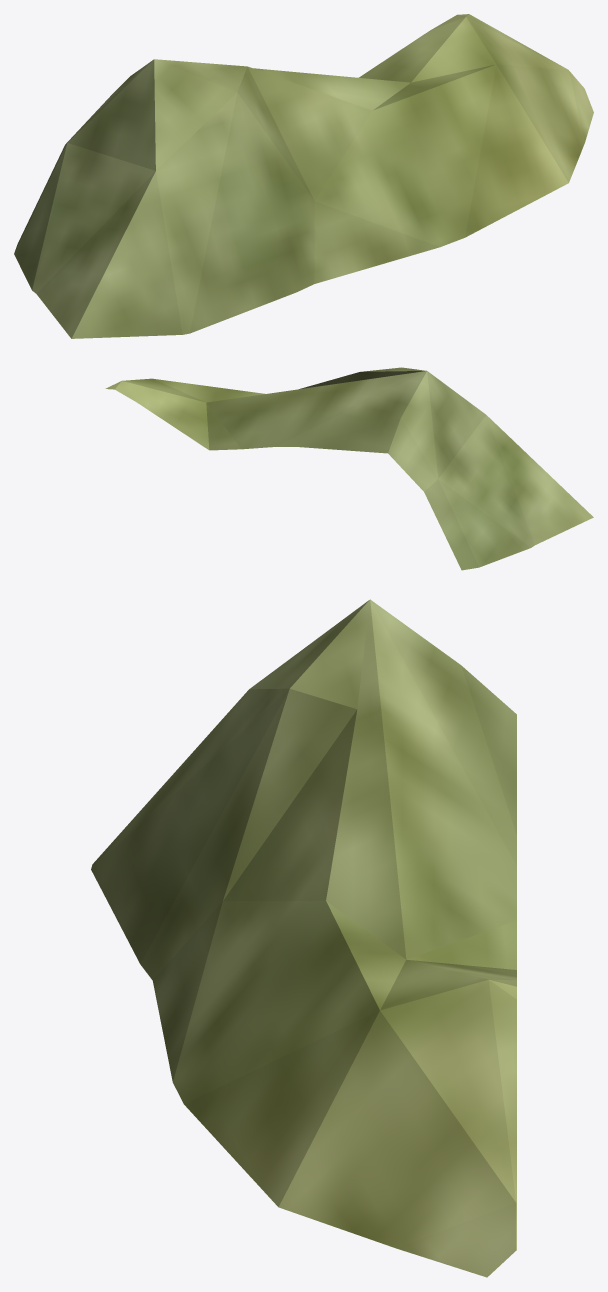
The picture shows the model from 3 angles, top to bottom: view 1: azimuth 30°, elevation 25°; view 2: azimuth 150°, elevation 25°; view 3: azimuth 270°, elevation 25°; orthographic projection. The views are drawn at different scales.
Size of the model in its own units: 1.21 by 0.3642 by 0.4524.
Materials: 1 (1 with a texture image).
